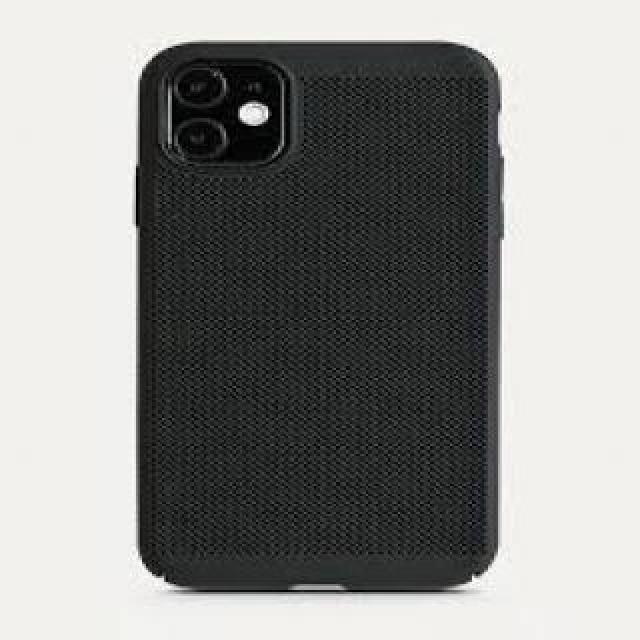smart phone: (93, 30, 515, 605)
